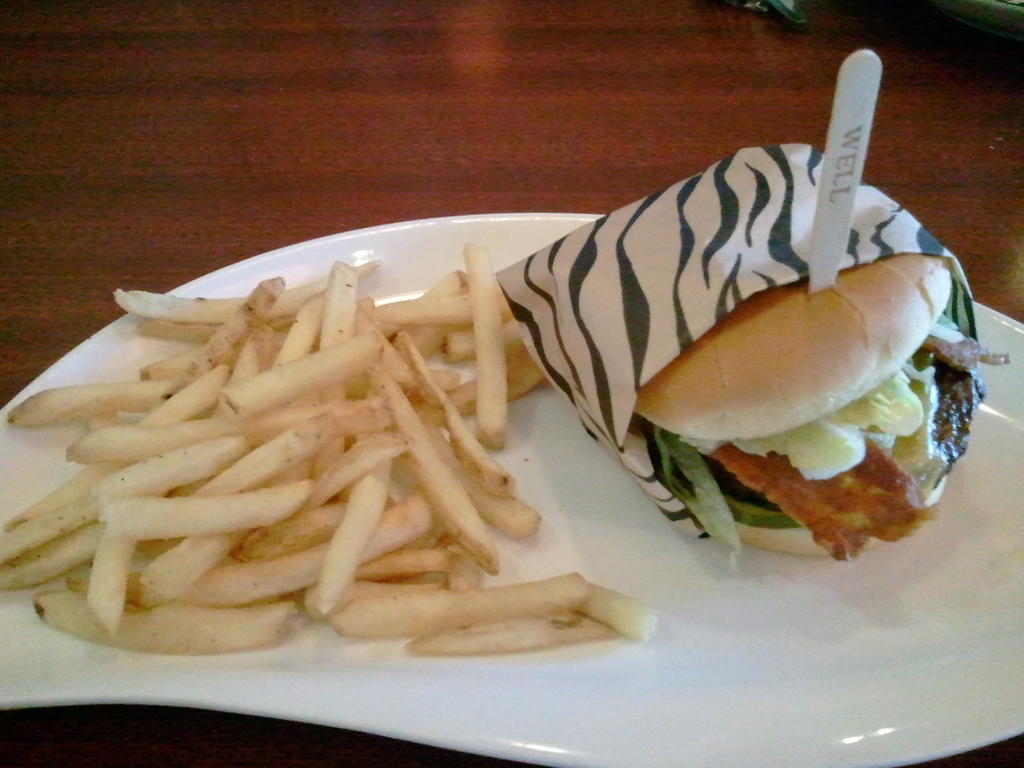French fries: (0, 254, 663, 679)
